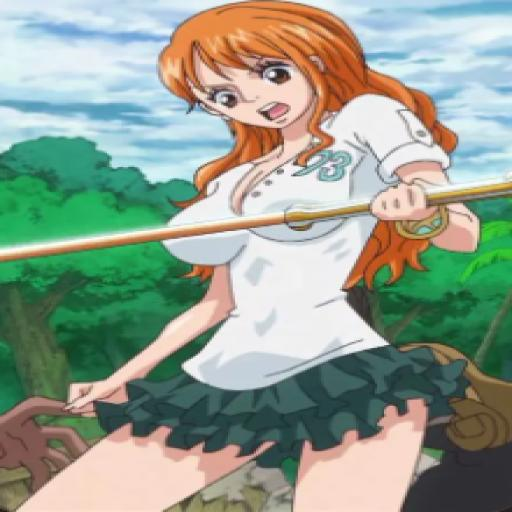Nami: (7, 3, 491, 512)
